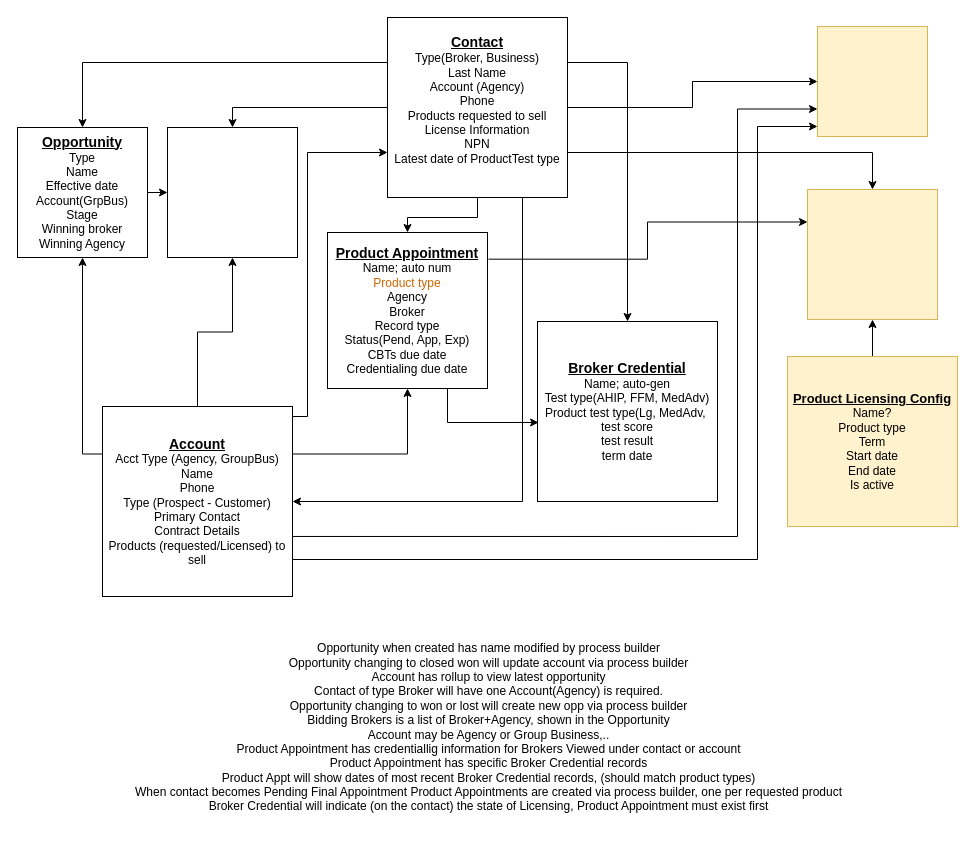
This 975x855 diagram has some shape labels left out. The shapes that lost their labels are listed below. From the top down, each one's centre as x and y in pixels, then its label:
At point (872, 81): "Broker of Record Name? Broker Agency Account(GrpBus)".
At point (232, 192): "Bidding Brokers Name Agency Broker Opportunity Winning Broker".
At point (872, 254): "Broker Licensing Product Lic config Broker Product Appt Licensing date".
